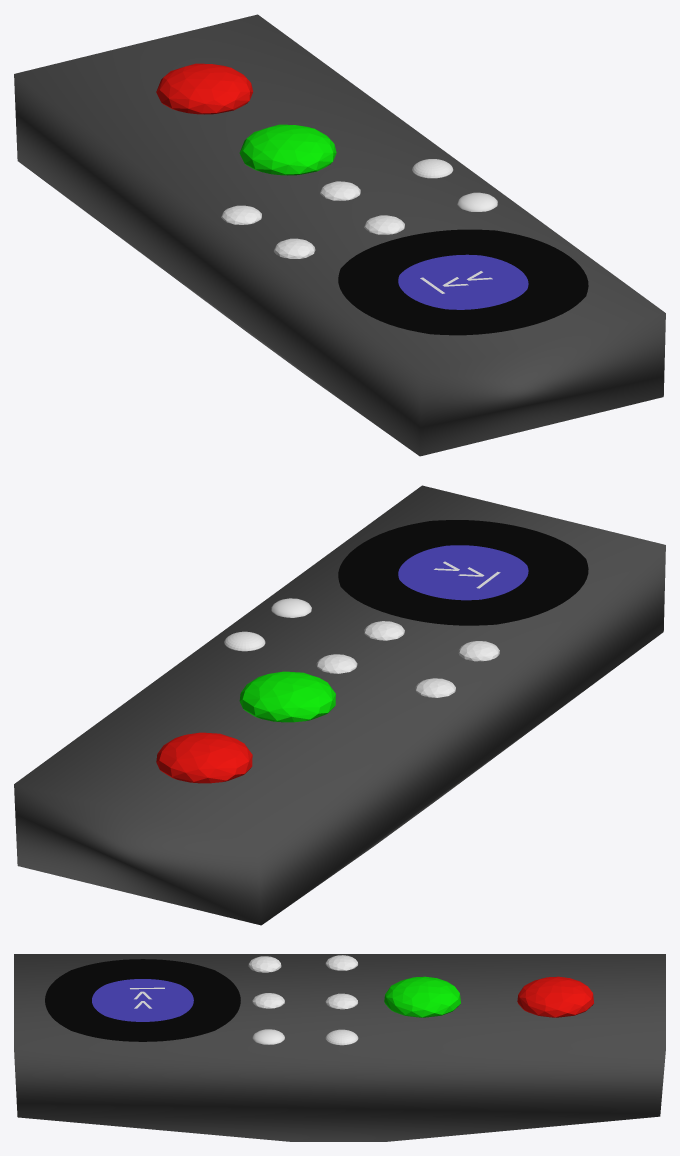
Rendered from Remote.fbx.
3 renders of one model, top to bottom at view 1: azimuth 30°, elevation 25°; view 2: azimuth 150°, elevation 25°; view 3: azimuth 270°, elevation 25°, orthographic. The views are drawn at different scales.
Parts seen in each view (by area): view 1: Cube, Plane, Plane.001, Sphere.001, Sphere, Sphere.003, Sphere.007, Sphere.005, Sphere.004, Sphere.002, Sphere.006; view 2: Cube, Plane, Plane.001, Sphere, Sphere.001, Sphere.003, Sphere.007, Sphere.005, Sphere.006, Sphere.002, Sphere.004; view 3: Cube, Plane, Plane.001, Sphere, Sphere.001, Sphere.003, Sphere.007, Sphere.004, Sphere.002, Sphere.005, Sphere.006.
Boxes of the visible parts, box(x1,y1,x2,y2) form: Cube: box(14, 14, 665, 456); Plane: box(338, 229, 588, 335); Plane.001: box(398, 254, 528, 309); Sphere.001: box(239, 124, 336, 175); Sphere: box(156, 63, 253, 114); Sphere.003: box(274, 238, 315, 258); Sphere.007: box(412, 159, 453, 178); Sphere.005: box(320, 181, 360, 200); Sphere.004: box(364, 215, 404, 234); Sphere.002: box(457, 192, 497, 211); Sphere.006: box(221, 205, 261, 224); Cube: box(14, 485, 665, 925); Plane: box(338, 520, 588, 625); Plane.001: box(398, 545, 528, 600); Sphere: box(156, 732, 252, 783); Sphere.001: box(239, 671, 335, 722); Sphere.003: box(458, 641, 499, 661); Sphere.007: box(224, 631, 265, 651); Sphere.005: box(316, 654, 357, 673); Sphere.006: box(415, 678, 455, 697); Sphere.002: box(271, 598, 311, 617); Sphere.004: box(364, 621, 404, 640); Cube: box(14, 954, 665, 1141); Plane: box(45, 959, 240, 1041); Plane.001: box(92, 979, 193, 1021); Sphere: box(517, 976, 593, 1017); Sphere.001: box(384, 976, 460, 1017); Sphere.003: box(248, 956, 281, 972); Sphere.007: box(325, 1029, 358, 1045); Sphere.004: box(252, 993, 284, 1008); Sphere.002: box(252, 1029, 284, 1044); Sphere.005: box(325, 993, 357, 1009); Sphere.006: box(325, 955, 357, 970).
Size of the model in its own units: 117 by 76.46 by 340.
